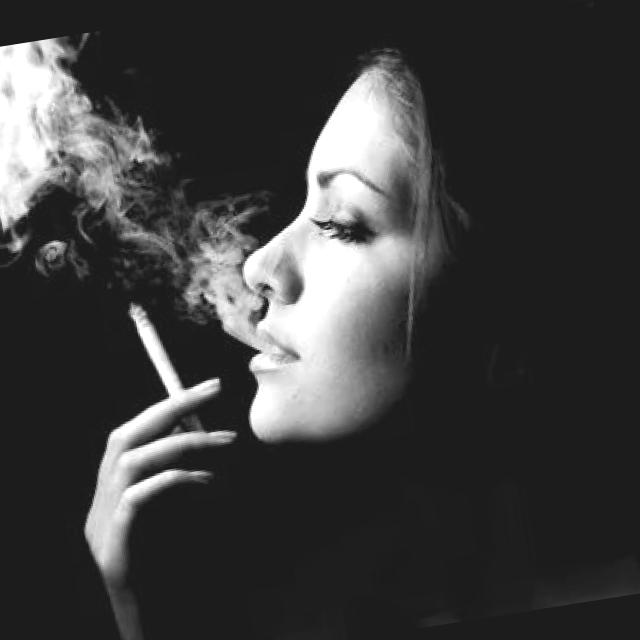smoke: (118, 290, 204, 440)
